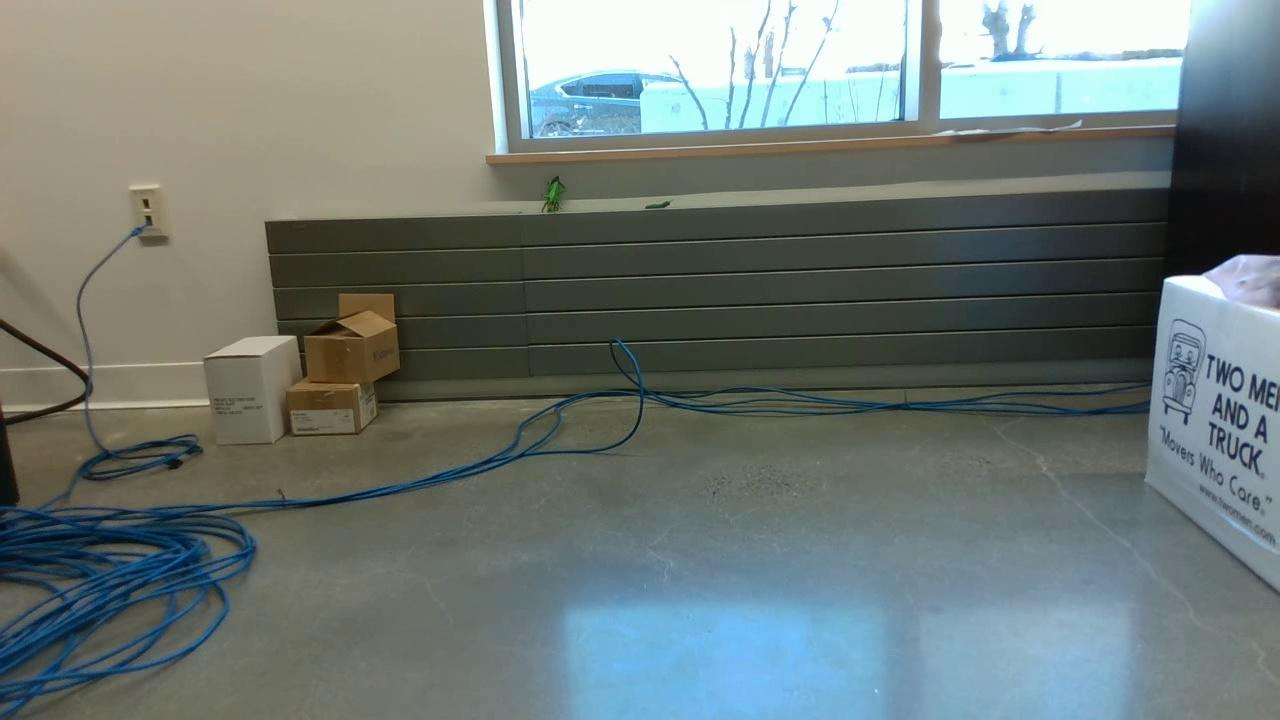grasshopper: (542, 175, 566, 212)
